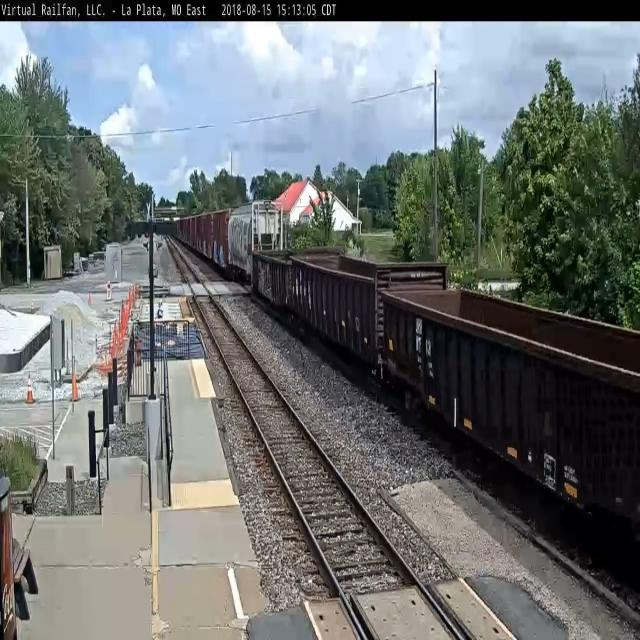gondola: (377, 275, 640, 584), (288, 247, 448, 386), (250, 246, 294, 320)
